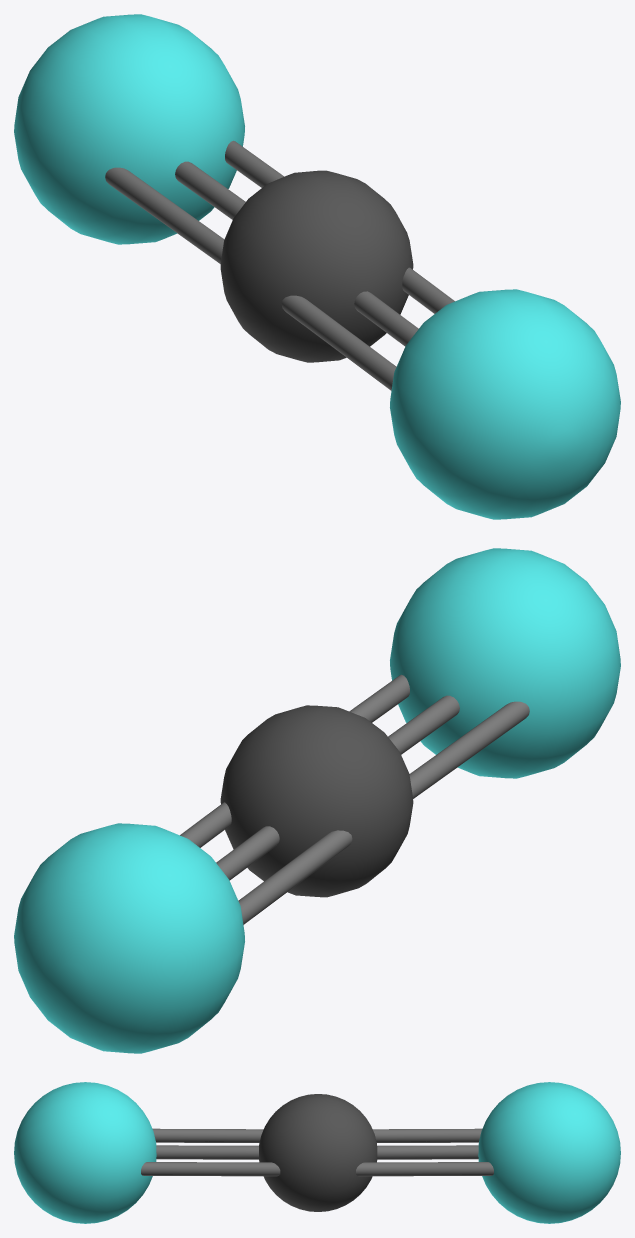
The picture shows the model from 3 angles, top to bottom: view 1: azimuth 30°, elevation 25°; view 2: azimuth 150°, elevation 25°; view 3: azimuth 270°, elevation 25°; orthographic projection. The views are drawn at different scales.
Visible parts, largest first — view 1: CS2; view 2: CS2; view 3: CS2.
Boxes of the visible parts, box(x1,y1,x2,y2) form: CS2: box(14, 14, 620, 519); CS2: box(14, 548, 620, 1053); CS2: box(14, 1082, 620, 1223).
Size of the model in its own units: 2 by 2 by 8.49.
